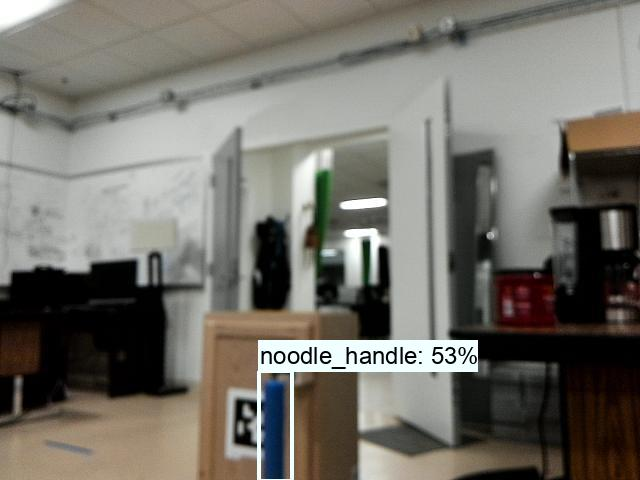noodle_handle: (260, 371, 293, 480)
